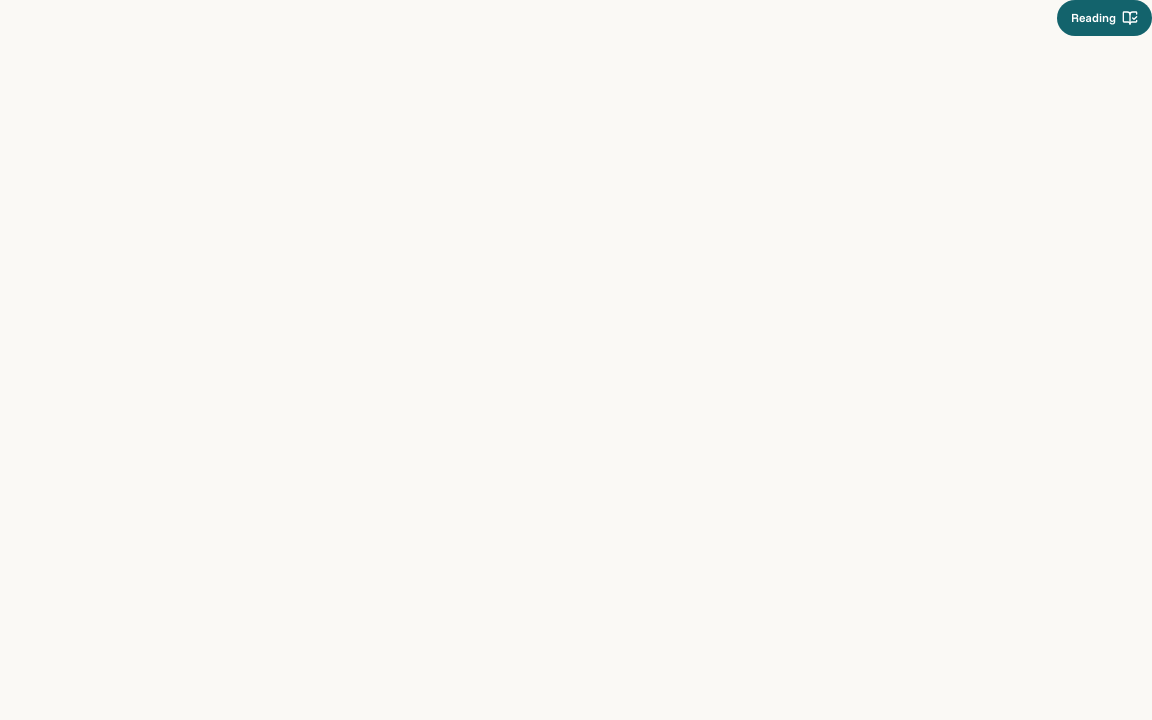
Test: QuickActionsMenu — the menu › marks the generator already in use
Click the button: (1104, 18) [1057,0,1151,36]
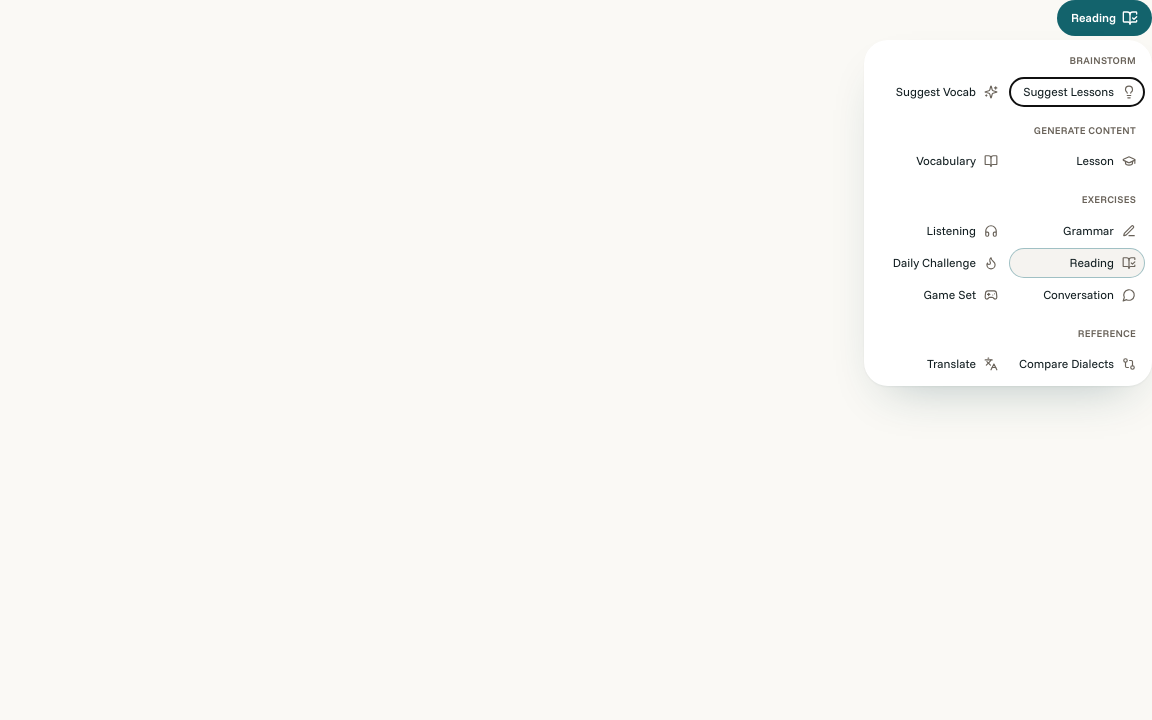
Expected: the text "Brainstorm" is shown, [1070,54,1136,67]
